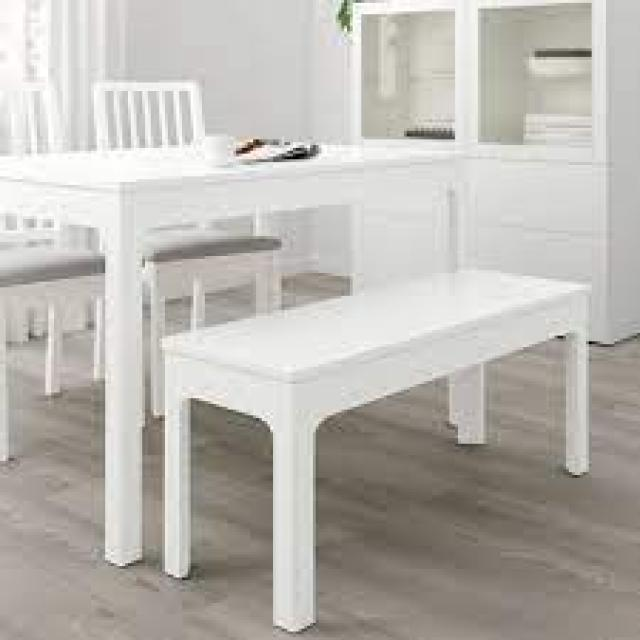table: (4, 70, 612, 634)
